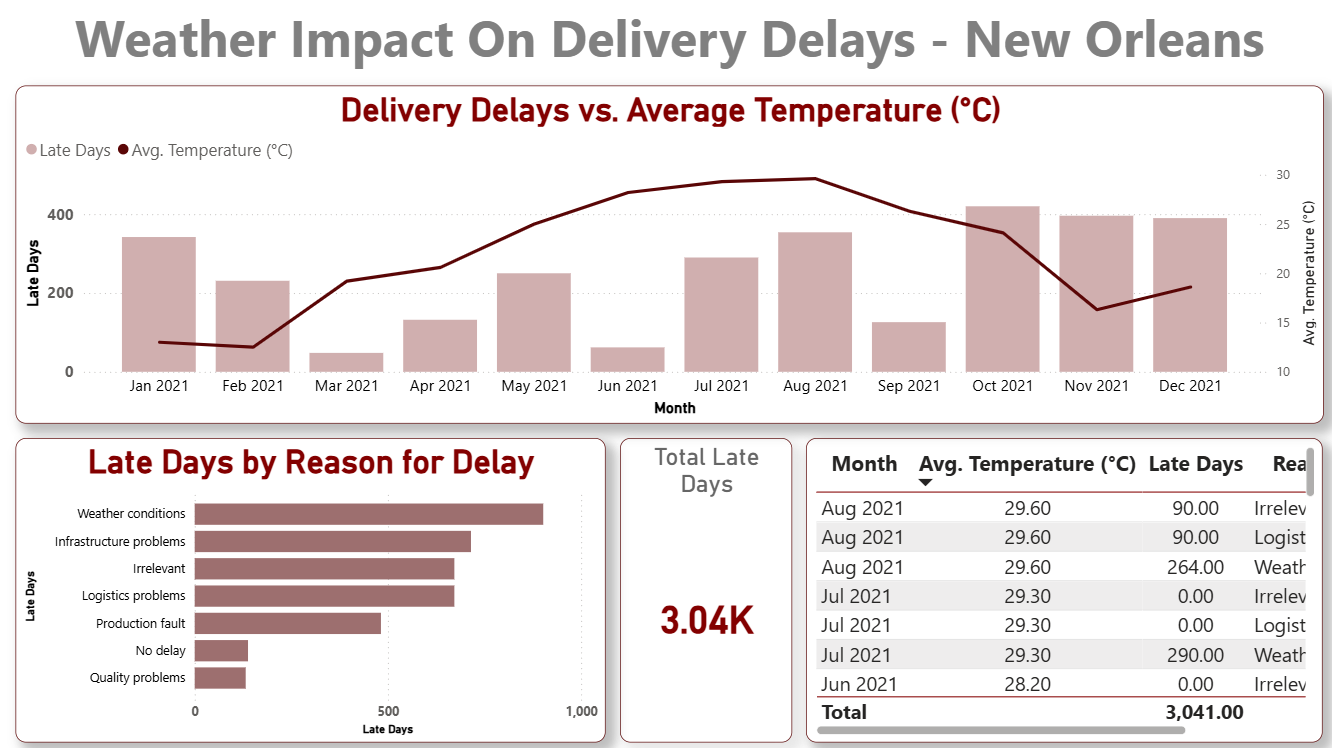

The dashboard page shown, as its layout file describes it:
{"tool":"powerbi","page":{"name":"Weather Impact Analysis","canvas":[1280,720],"ordinal":7},"visuals":[{"type":"textbox","box":[46,0,1192,84],"z":0},{"type":"card","title":"Total Late Days","fields":{"Values":["Sum(Fact_Online_Sales.Num Late Days)"]},"box":[594,420,164,290],"z":1000},{"type":"tableEx","fields":{"Values":["Dim_NewOrleansWeather.YearMonth","Dim_NewOrleansWeather.Average","Sum(Fact_Online_Sales.Num Late Days)","Dim_Operational.Reason for Delay"]},"box":[772,420,492,290],"z":2000},{"type":"lineClusteredColumnComboChart","title":"Delivery Delays vs. Average Temperature (°C)","fields":{"Y":["Sum(Fact_Online_Sales.Num Late Days)"],"Y2":["Avg(Dim_NewOrleansWeather.Average)"],"Category":["Dim_NewOrleansWeather.YearMonth"]},"box":[18,84,1246,322],"z":3000},{"type":"clusteredBarChart","title":"Late Days by Reason for Delay","fields":{"Category":["Dim_Operational.Reason for Delay"],"Y":["Sum(Fact_Online_Sales.Num Late Days)"]},"box":[18,420,562,290],"z":4000}]}

Visuals, with their boxes in screenshot pixels (x1, y1, x2, y2), scaled from the page's 1280x720 canvas onto the 1332x748 screenshot:
textbox: x1=48, y1=0, x2=1288, y2=87
"Total Late Days" card: x1=618, y1=436, x2=789, y2=738
tableEx - Dim_NewOrleansWeather.YearMonth x Dim_NewOrleansWeather.Average: x1=803, y1=436, x2=1315, y2=738
"Delivery Delays vs. Average Temperature (°C)" lineClusteredColumnComboChart: x1=19, y1=87, x2=1315, y2=422
"Late Days by Reason for Delay" clusteredBarChart: x1=19, y1=436, x2=604, y2=738
